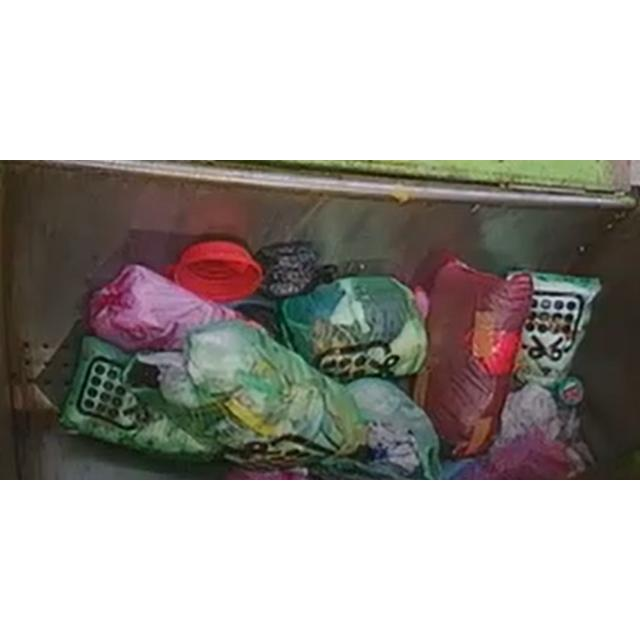general_trashbag: (135, 320, 364, 468), (61, 338, 221, 458), (279, 278, 428, 381), (514, 273, 601, 386), (346, 378, 440, 479)
other_trashbag: (420, 256, 532, 457)
